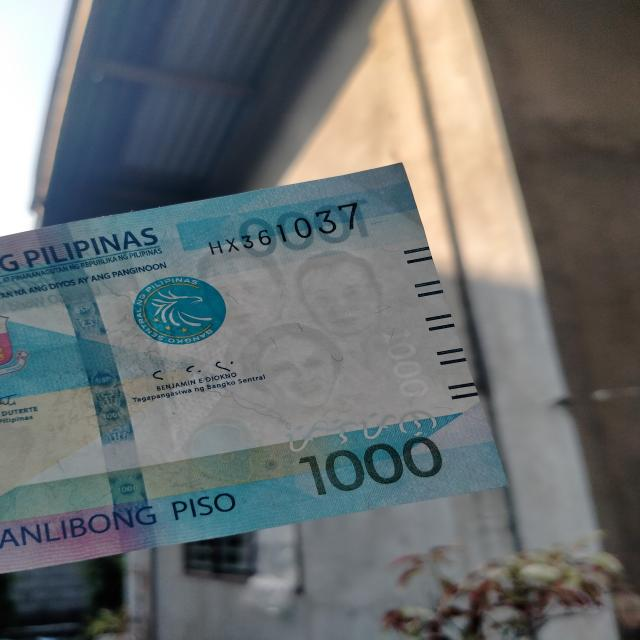security_thread: (36, 223, 161, 554)
see_through_mark: (261, 408, 448, 454)
serial_number: (206, 203, 363, 254)
value_watermark: (379, 318, 435, 406)
watermark: (202, 248, 391, 424)
